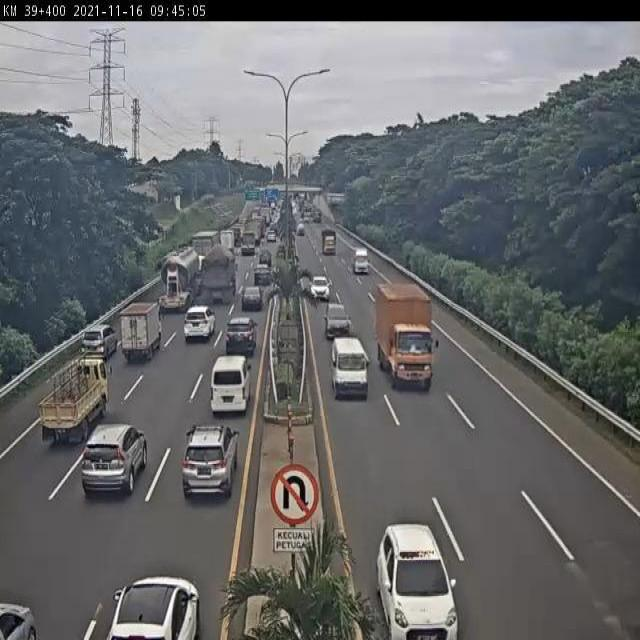car: (376, 525, 456, 640), (82, 423, 148, 496), (181, 424, 239, 497), (331, 337, 369, 400), (80, 325, 115, 359), (224, 319, 256, 356), (182, 304, 214, 340), (325, 303, 352, 341), (241, 285, 263, 315), (310, 274, 332, 302), (252, 265, 271, 287)
small bus: (210, 355, 250, 412)
small truck: (39, 360, 115, 444), (120, 303, 161, 361)
truck-l-: (196, 248, 236, 309), (190, 229, 222, 279)
truck-m-: (376, 283, 434, 392)
truck-xl-: (156, 244, 201, 315)
